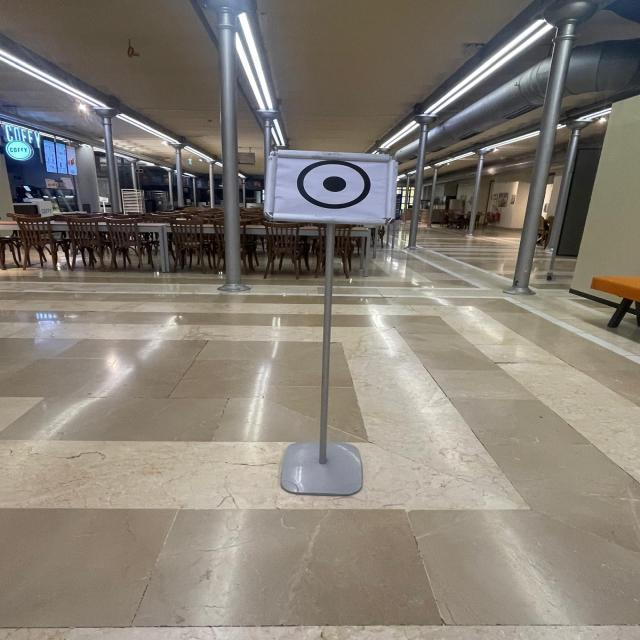Target: (253, 134, 412, 237)
inner: (318, 167, 350, 199)
